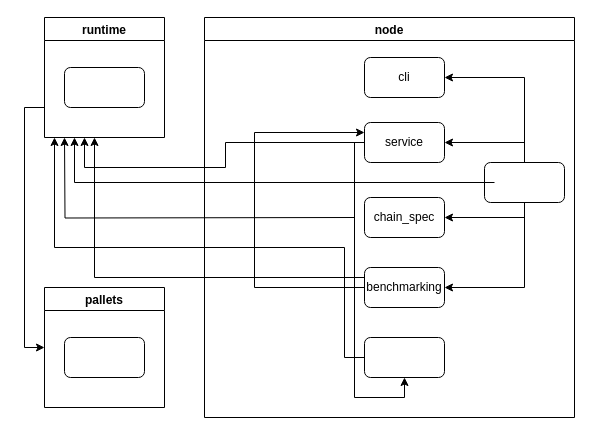
This 592x435 diagram has some shape labels left out. The shapes that lost their labels are listed below. From the top down, each one's centre as x and y in pixels, then its label:
At point 104,87: "lib".
At point 524,182: "command".
At point 104,357: "template".
At point 404,357: "rpc".
